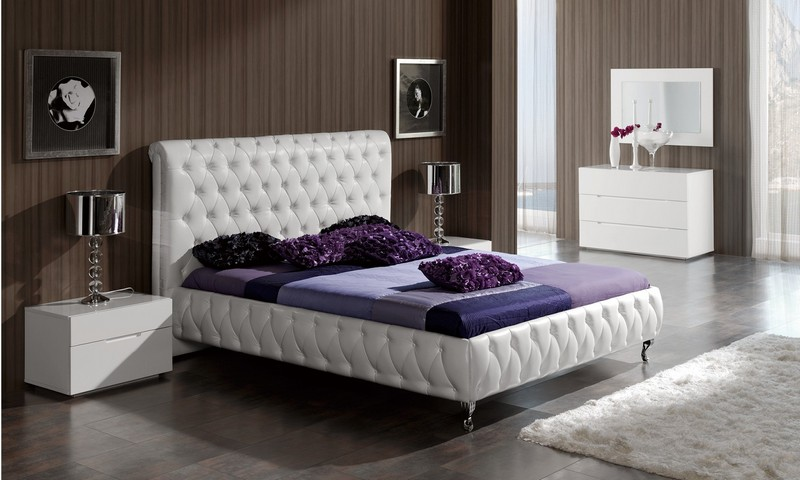bed: (157, 130, 675, 436)
lamp: (63, 187, 128, 308), (421, 160, 465, 248)
stool: (578, 160, 715, 259), (22, 302, 173, 391)
